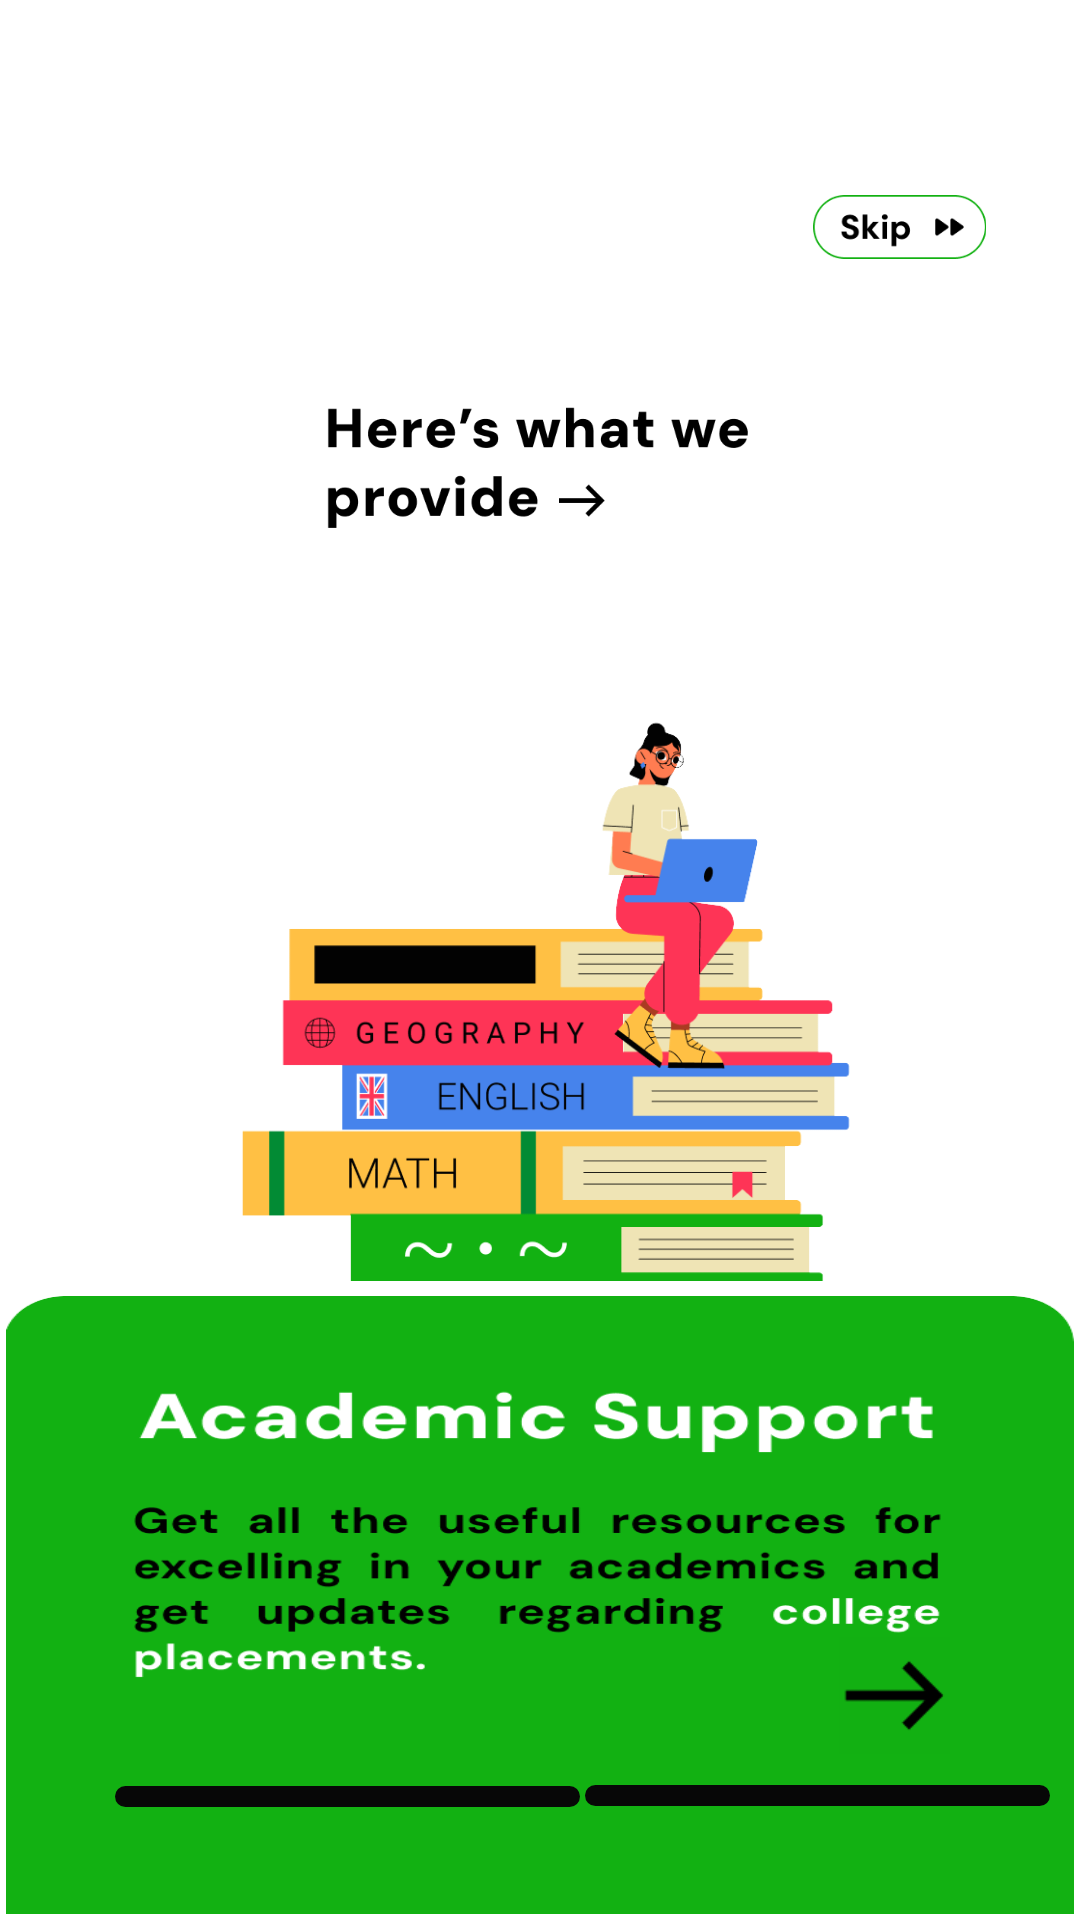

Named icons in this screenshot (1080px×1920px) and their bounding boxes, detection(x1, y1, x2, y2):
arrow next: detection(845, 1661, 943, 1730)
